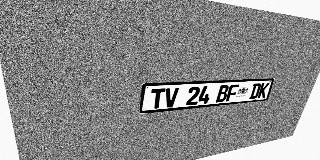plate: (139, 78, 275, 114)
